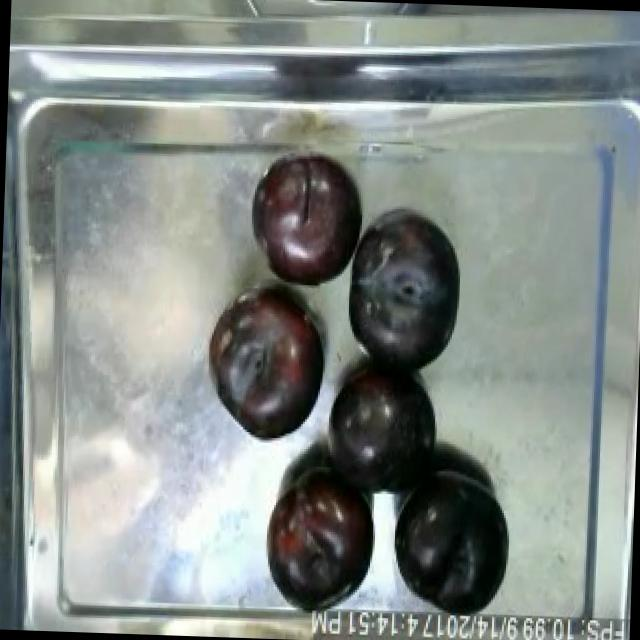Fruit: (198, 273, 338, 452), (344, 204, 474, 384), (382, 456, 518, 622), (254, 454, 387, 614), (316, 354, 448, 508), (243, 144, 372, 297)
